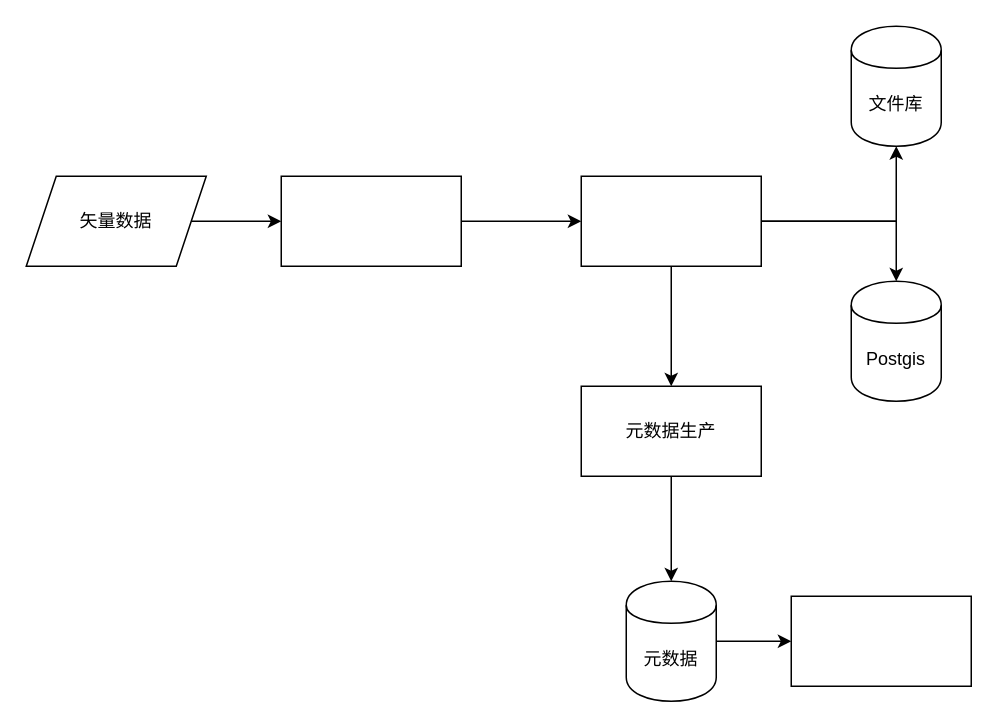
This 998x728 diagram has some shape labels left out. The shapes that lost their labels are listed below. From the top down, each one's centre as x and y in pixels, then its label:
the point at 370,220: 数据验证
the point at 670,220: 数据入库
the point at 880,640: 元数据管理
